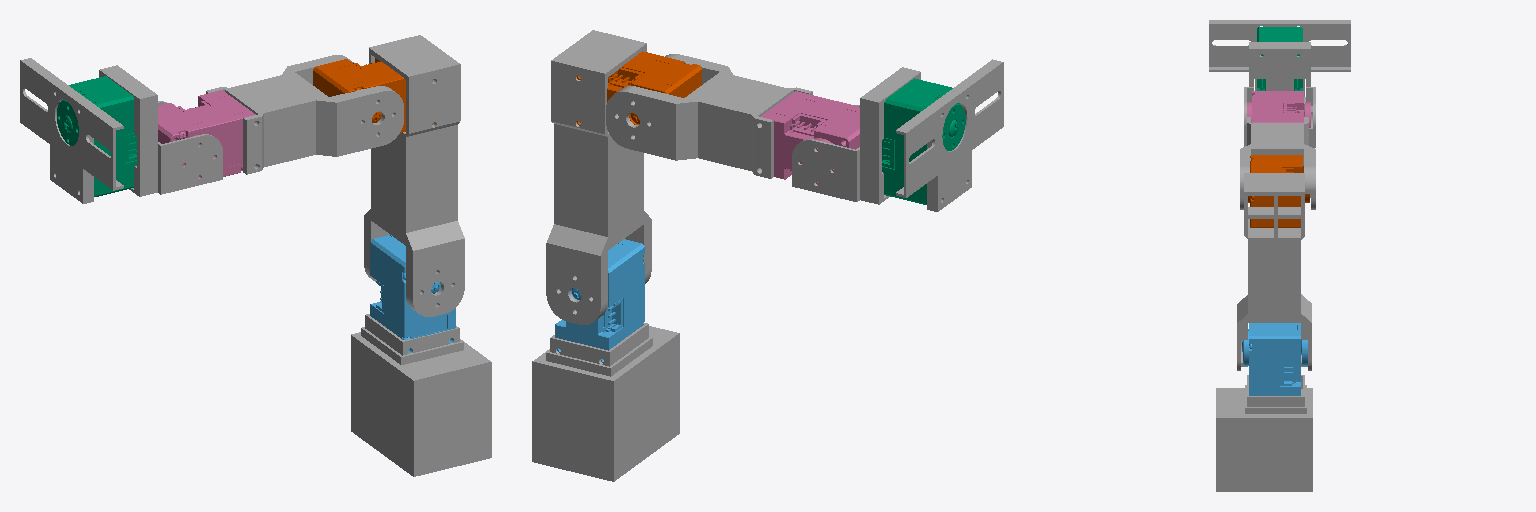
URDF robot description (my_arm):
<?xml version="1.0"?>
<robot name="my_arm">
  <material name="light_gray">
    <color rgba="0.7 0.7 0.7 1"/>
  </material>

  <!-- ================= BASE LINK ================= -->
  <link name="base_link">
    <visual>
      <origin xyz="0 0 0" rpy="0 0 0"/>
      <geometry>
        <mesh filename="package://my_arm_description/meshes/visual/base_link.stl"/>
      </geometry>
      <material name="light_gray"/>
    </visual>
  </link>
  <!-- ================= joint idler link1 ================= -->
  <link name="joint_idler">
    <visual>
      <origin xyz="0 0 0" rpy="0 0 0"/>
      <geometry>
        <mesh filename="package://my_arm_description/meshes/visual/joint_idler.stl"/>
      </geometry>
    </visual>
  </link>
  
  <!-- ================= JOINT LINK 2================= -->
  <link name="joint_without_idler">
    <visual>
      <origin xyz="0 0 0" rpy="0 0 0"/>
      <geometry>
        <mesh filename="package://my_arm_description/meshes/visual/joint_without_idler.stl"/>
      </geometry>
    </visual>
  </link>
  <!-- ================= HORN CASE LINK ================= -->
  <link name="horn_case">
    <visual>
      <origin xyz="0 0 0" rpy="0 0 0"/>
      <geometry>
        <mesh filename="package://my_arm_description/meshes/visual/horn_case.stl"/>
      </geometry>
      <material name="light_gray"/>
    </visual>
  </link>
  <!-- ================= robot_arm_link_1 ================= -->
  <link name="robot_arm_link_1">
    <visual>
      <origin xyz="0 0 0" rpy="0 0 0"/>
      <geometry>
        <mesh filename="package://my_arm_description/meshes/visual/robot_arm_link_1.stl"/>
      </geometry>
      <material name="light_gray"/>
    </visual>
  </link> 
  <!-- ================= JOINT LINK3 ================= -->
  <link name="joint_idler_2">
    <visual>
      <origin xyz="0 0 0" rpy="0 0 0"/>
      <geometry>
        <mesh filename="package://my_arm_description/meshes/visual/joint_idler_2.stl"/>
      </geometry>
    </visual>
  </link>  
  
  <!-- ================= JOINT LINK4 ================= -->
  <link name="joint_idler_3">
    <visual>
      <origin xyz="0 0 0" rpy="0 0 0"/>
      <geometry>
        <mesh filename="package://my_arm_description/meshes/visual/joint_idler_3.stl"/>
      </geometry>
    </visual>
  </link> 

  <!-- ================= robot_arm_link_2 ================= -->
  <link name="robot_arm_link_2">
    <visual>
      <origin xyz="0 0 0" rpy="0 0 0"/>
      <geometry>
        <mesh filename="package://my_arm_description/meshes/visual/robot_arm_link_2.stl"/>
      </geometry>
      <material name="light_gray"/>
    </visual>
  </link> 
  <!-- ================= gripper_link2 ================= -->
  <link name="gripper_link2">
    <visual>
      <origin xyz="0 0 0" rpy="0 0 0"/>
      <geometry>
        <mesh filename="package://my_arm_description/meshes/visual/gripper_link2.stl"/>
      </geometry>
      <material name="light_gray"/>
    </visual>
  </link> 
  
  <!-- ================= gripper_base LINK ================= -->
  <link name="gripper_base">
    <visual>
      <origin xyz="0 0 0" rpy="0 0 0"/>
      <geometry>
        <mesh filename="package://my_arm_description/meshes/visual/gripper_base.stl"/>
      </geometry>
      <material name="light_gray"/>
    </visual>
  </link>
  
  <!-- ================= XL330_without_idler2 ================= -->
  <link name="joint_without_idler2">
    <visual>
      <origin xyz="0 0 0" rpy="0 0 0"/>
      <geometry>
        <mesh filename="package://my_arm_description/meshes/visual/joint_without_idler2.stl"/>
      </geometry>
    </visual>
  </link>
  
  <!-- ================= FIXED JOINT ================= -->
  <joint name="base_to_joint" type="fixed">
    <parent link="base_link"/>
    <child link="joint_without_idler"/>
    <origin xyz="0.028 -0.0005 0" rpy="0 0 0"/>
  </joint>

  <!-- ================= FIXED JOINT ================= -->
  <joint name="horn_case_to_joint_idler" type="fixed">
    <parent link="horn_case"/>
    <child link="joint_idler"/>
    <origin xyz="-0.020276 -0.0275 -0.02735" rpy="0 0 0"/>
  </joint>

  <!-- ================= FIXED JOINT ================= -->
  <joint name="arm1_to_joint3" type="fixed">
    <parent link="robot_arm_link_1"/>
    <child link="joint_idler_2"/>
    <origin xyz="-0.0691 -0.106735 -0.039" rpy="-1.5708 3.1416 0"/>
  </joint>

  <!-- ================= FIXED JOINT ================= -->
  <joint name="arm2_to_joint4" type="fixed">
    <parent link="robot_arm_link_2"/>
    <child link="joint_idler_3"/>
    <origin xyz="0.062 0.0687 0.018" rpy="-1.5708 0 1.5708"/>
  </joint>
  
  <!-- ================= FIXED JOINT ================= -->
  <joint name="gripperlink_to_joint_without_idler2" type="fixed">
    <parent link="gripper_link2"/>
    <child link="joint_without_idler2"/>
    <origin xyz="-0.017 -0.0352 -0.0115" rpy="1.5708 -1.5708 0"/>
  </joint>
  
  <!-- ================= FIXED JOINT ================= -->
  <joint name="joint_without_idler2_to_gripper_base" type="fixed">
    <parent link="joint_without_idler2"/>
    <child link="gripper_base"/>
    <origin xyz="0.002 -0.0119 0.007" rpy="-3.1416 0 0"/>
  </joint>

  <!-- ================= CONTINUOUS JOINT ================= -->
  <joint name="joint_to_horn_case" type="continuous">
    <parent link="joint_without_idler"/>
    <child link="horn_case"/>
    <!-- child origin in parent frame (m) -->
    <origin xyz="0.0198 0.0265 0.02745" rpy="0 0 0"/>
    <!-- rotate around parent Z axis -->
    <axis xyz="0 0 1"/>
  </joint>

  <!-- ================= revolute JOINT ================= -->
  <joint name="joint_to_arm_link_1" type="revolute">
  <parent link="joint_idler"/>
  <child link="robot_arm_link_1"/>
  <origin xyz="0.020276 0.03845 0.062239" rpy="0 1.5708 1.5708"/>
  <axis xyz="0 0 1"/>
  <limit 
    lower="-1.0472"
    upper="1.0472"
    effort="5.0"
    velocity="2.0"/>
  </joint>
  
  <!-- ================= revolute JOINT ================= -->
  <joint name="joint_to_arm_link_2" type="revolute">
  <parent link="joint_idler_2"/>
  <child link="robot_arm_link_2"/>
  <origin xyz="-0.001696 0.017235 0.129" rpy="1.5708 1.5708 0"/>
  <axis xyz="0 0 1"/>
  <limit 
    lower="-1.0472"
    upper="1.0472"
    effort="5.0"
    velocity="2.0"/>
  </joint>

  <!-- ================= revolute JOINT ================= -->
  <joint name="joint_to_gripper_link2" type="revolute">
  <parent link="joint_idler_3"/>
  <child link="gripper_link2"/>
  <origin xyz="-0.0694 0.019 0.1296" rpy="1.5708 3.1416 0"/>
  <axis xyz="0 0 1"/>
  <limit 
    lower="-1.0472"
    upper="1.0472"
    effort="5.0"
    velocity="2.0"/>
  </joint>
</robot>

--- Render facts (derived) ---
3 views of the same robot in one strip: view 1: azimuth 30°, elevation 25°; view 2: azimuth 150°, elevation 25°; view 3: azimuth 270°, elevation 25° (orthographic).
Model my_arm with 11 links and 10 joints (3 revolute, 1 continuous, 6 fixed), rooted at base_link, posed all joints at 0.
Links seen in each view (by area): view 1: robot_arm_link_1, base_link, robot_arm_link_2, gripper_base, gripper_link2, joint_idler, joint_idler_3, joint_without_idler2, joint_idler_2, horn_case; view 2: robot_arm_link_1, base_link, robot_arm_link_2, gripper_base, gripper_link2, joint_idler, joint_idler_3, joint_without_idler2, joint_idler_2, horn_case; view 3: robot_arm_link_1, base_link, gripper_base, joint_idler, gripper_link2, robot_arm_link_2, joint_idler_2, joint_idler_3, horn_case, joint_without_idler2.
Boxes of the visible links, box(x1,y1,x2,y2) form: robot_arm_link_1: box(364, 35, 464, 316); base_link: box(351, 332, 491, 476); robot_arm_link_2: box(206, 55, 403, 174); gripper_base: box(20, 58, 123, 203); gripper_link2: box(99, 65, 222, 196); joint_idler: box(370, 235, 455, 352); joint_idler_3: box(158, 90, 255, 177); joint_without_idler2: box(57, 76, 136, 196); joint_idler_2: box(313, 58, 433, 132); horn_case: box(361, 314, 463, 364); robot_arm_link_1: box(546, 30, 651, 324); base_link: box(532, 326, 679, 481); robot_arm_link_2: box(606, 54, 812, 178); gripper_base: box(896, 59, 1003, 211); gripper_link2: box(792, 67, 920, 204); joint_idler: box(555, 239, 644, 363); joint_idler_3: box(760, 91, 859, 184); joint_without_idler2: box(882, 78, 965, 204); joint_idler_2: box(577, 51, 701, 125); horn_case: box(546, 323, 652, 376); robot_arm_link_1: box(1237, 173, 1311, 370); base_link: box(1216, 388, 1312, 491); gripper_base: box(1209, 20, 1350, 96); joint_idler: box(1242, 323, 1307, 395); gripper_link2: box(1244, 42, 1315, 147); robot_arm_link_2: box(1240, 117, 1315, 209); joint_idler_2: box(1248, 155, 1309, 227); joint_idler_3: box(1247, 91, 1310, 127); horn_case: box(1245, 375, 1306, 413); joint_without_idler2: box(1257, 27, 1302, 90).
Size in the robot's own frame: 0.1478 by 0.062 by 0.1571 metres.
11 mesh visuals loaded from 11 distinct referenced files (11 binary STL).
